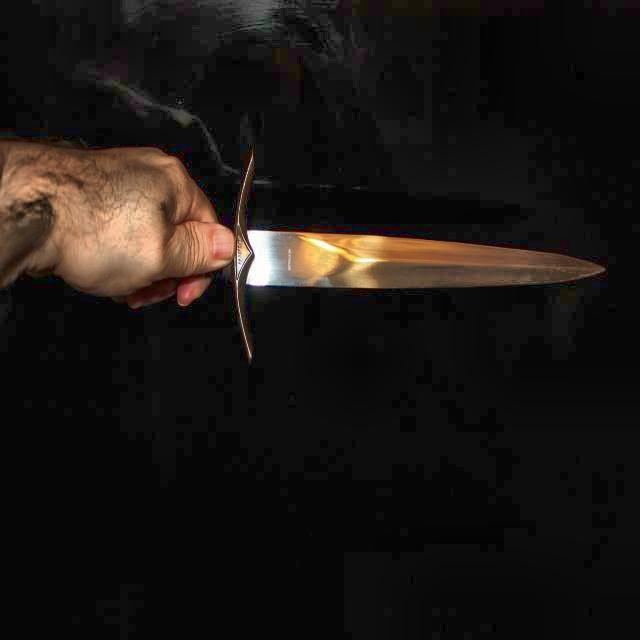knife: (225, 156, 640, 369)
